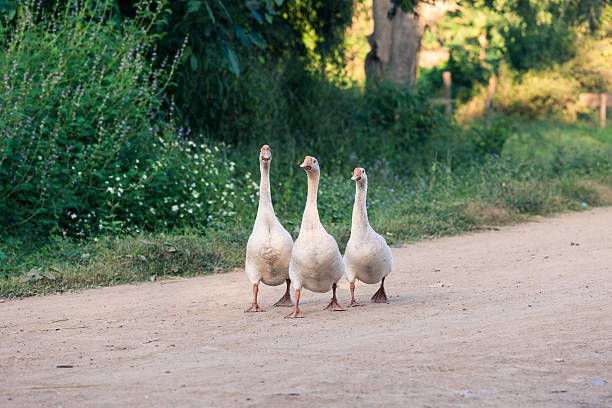goose: (289, 148, 344, 327), (341, 159, 400, 311), (241, 139, 291, 314)
